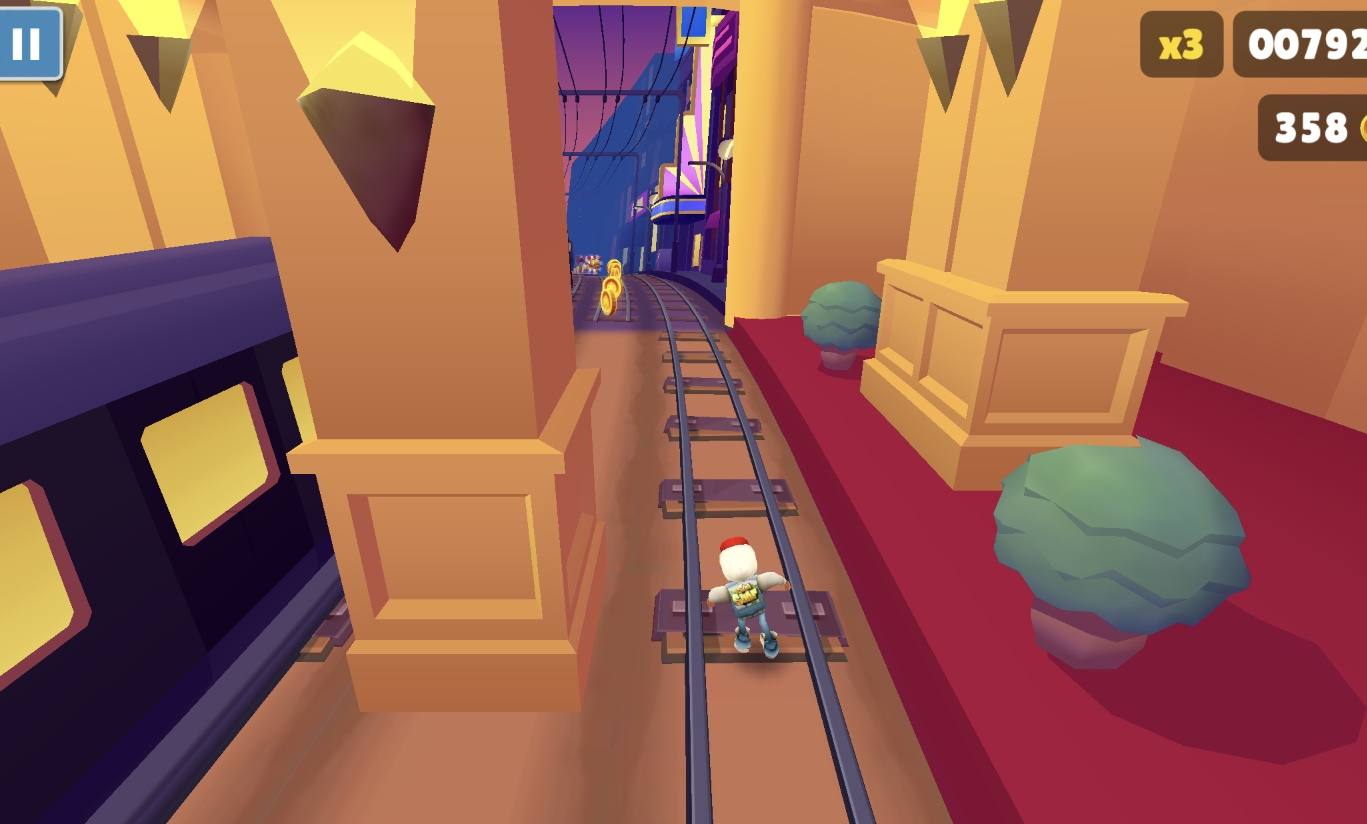ground_barrier: (594, 281, 632, 324)
pillar: (269, 0, 602, 714)
train: (0, 236, 351, 824), (568, 243, 578, 274)
